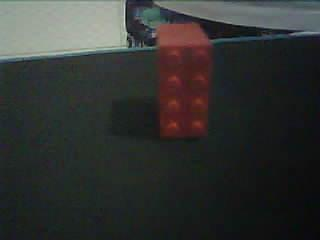lego: (154, 22, 212, 137)
